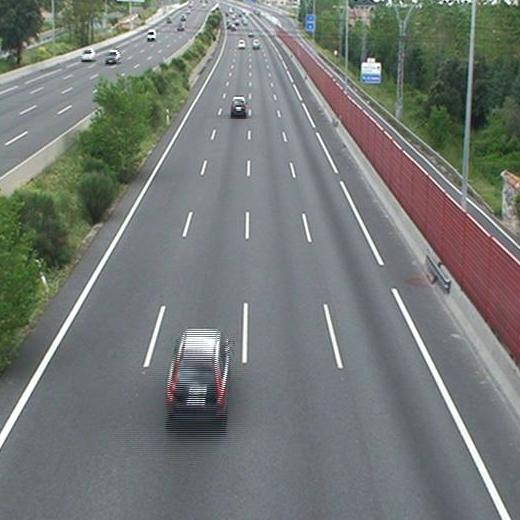car: (166, 330, 228, 416), (230, 97, 247, 116), (252, 40, 260, 49), (237, 40, 245, 49)
